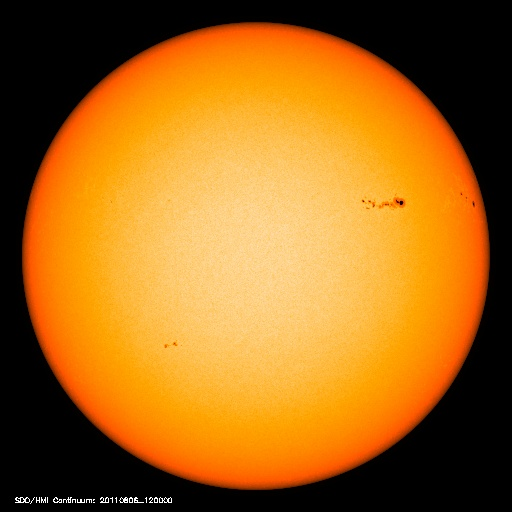sunspot: (352, 186, 412, 216), (150, 330, 196, 358), (453, 183, 488, 215)
